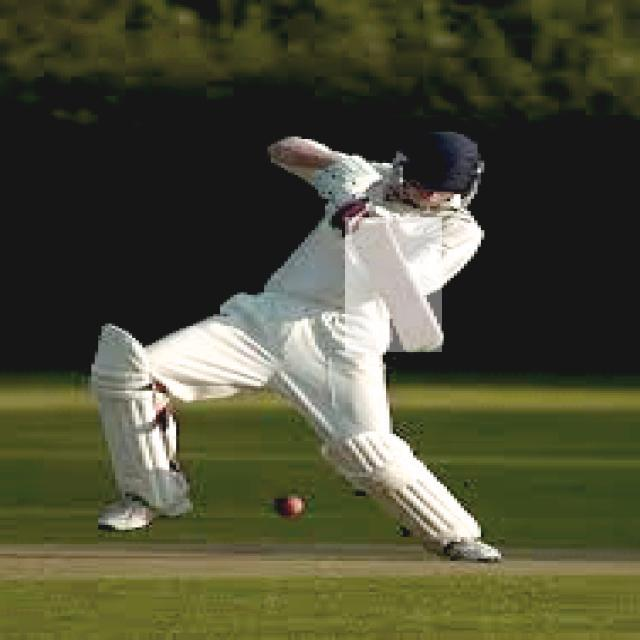bat: (346, 215, 446, 355)
toe: (414, 329, 449, 361)
